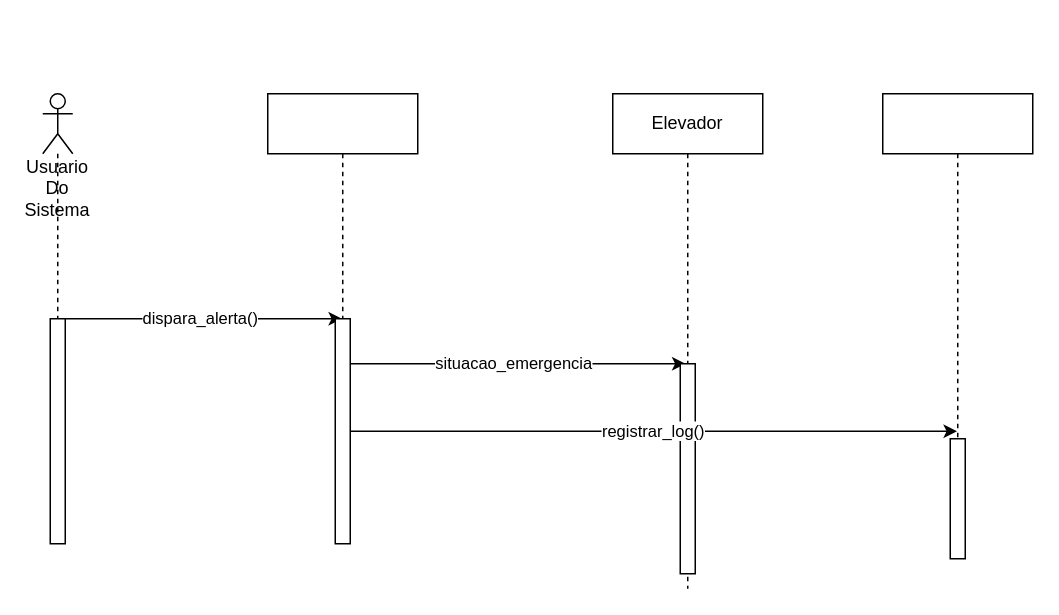
This 1059x615 diagram has some shape labels left out. The box of each missing label's shape, as (x1, y1, x2, y2) in pixels:
SalaDeControle: (266, 92, 418, 544)
UsuarioDoSistema: (881, 92, 1033, 559)
